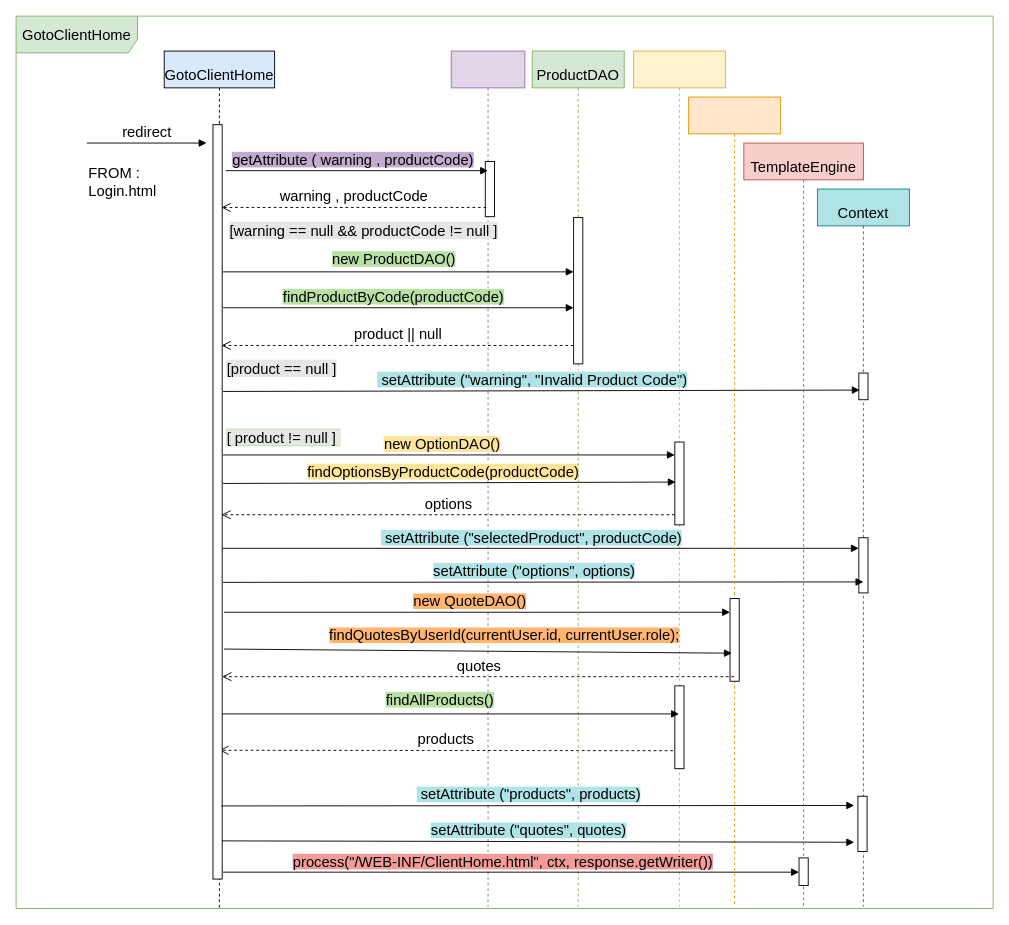
The diagram is 1009 pixels wide and 925 high, and some of its shapes have lost their labels. Here are the shapes that lost their labels. From the top down, the box of each, then its label:
(450, 50, 525, 907): Request
(632, 50, 725, 907): OptionDAO
(688, 96, 781, 907): QuoteDAO
